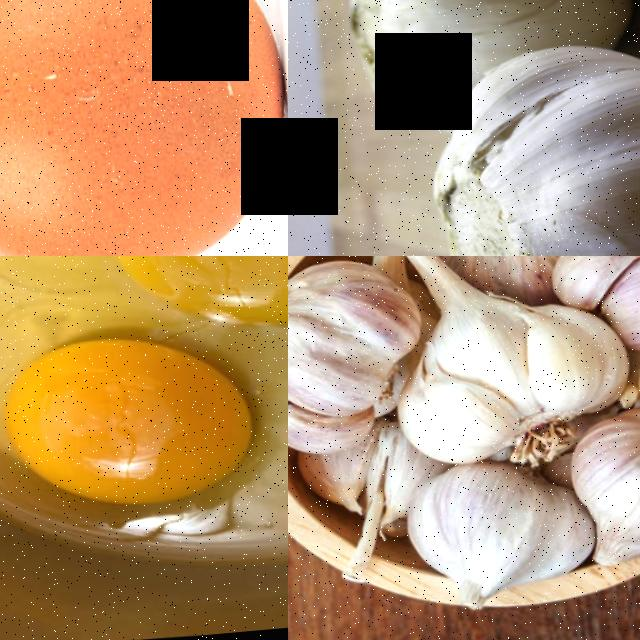egg_: (0, 0, 288, 256), (0, 331, 248, 521), (94, 256, 288, 346)
garlic: (408, 65, 640, 256), (383, 296, 621, 442), (392, 461, 582, 601), (288, 256, 411, 460), (319, 0, 637, 71), (552, 412, 640, 578), (537, 256, 637, 319)
